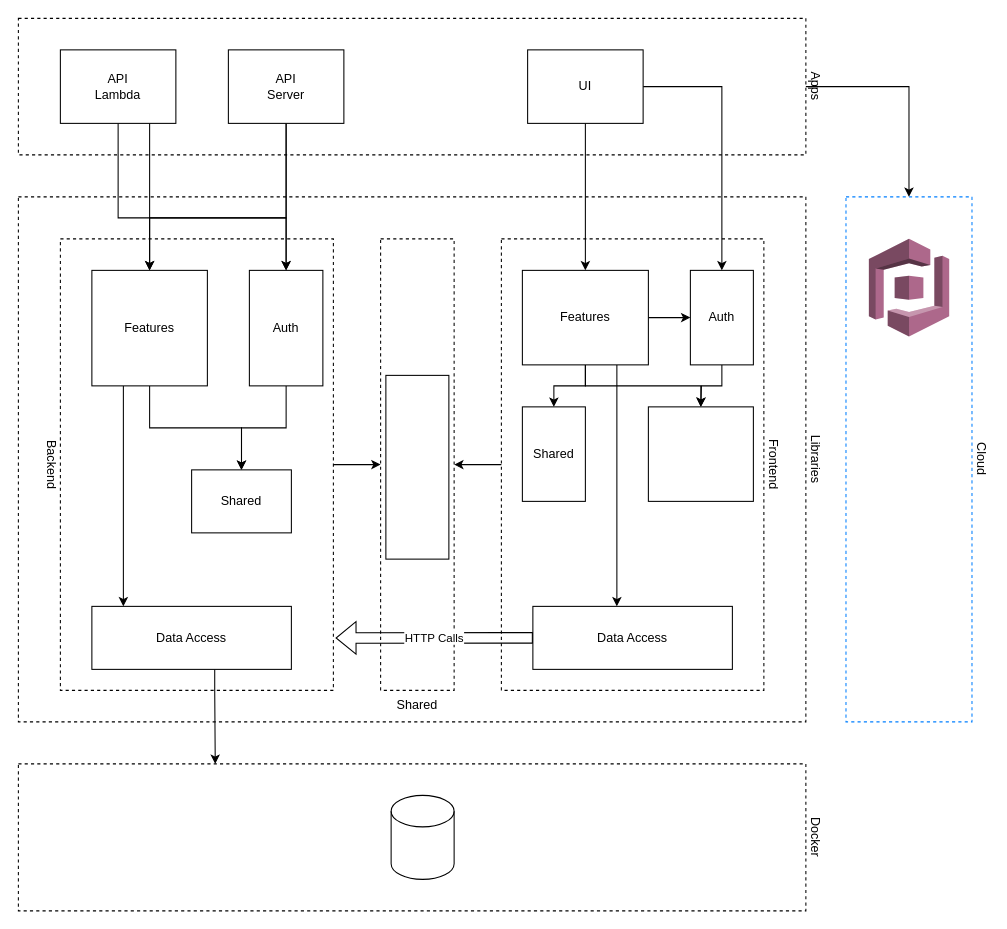
This 1007x929 diagram has some shape labels left out. The centre of each missing label's shape, as x and y in pixels:
"API Interfaces" goes at point (417, 466).
"Cognito" goes at point (908, 287).
"Component Library" goes at point (700, 453).
"Dynamo DB" goes at point (422, 836).
